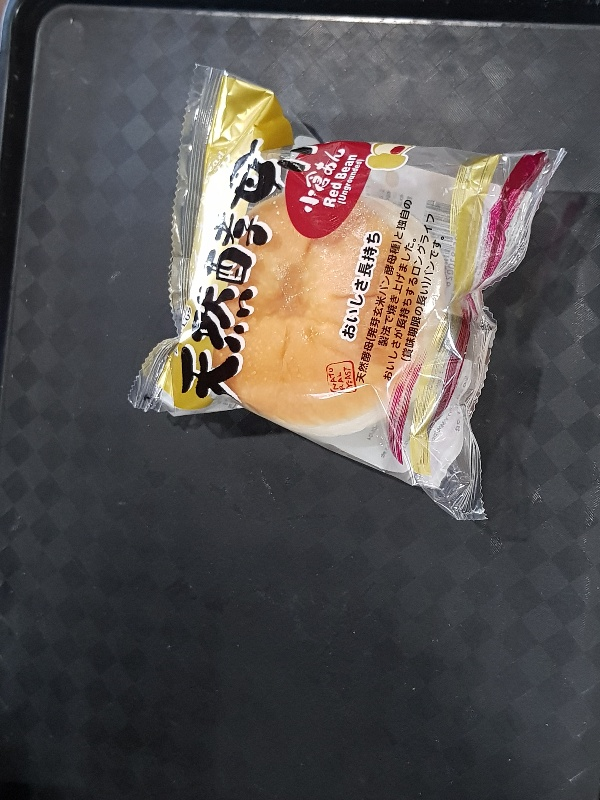Dayplus Red Bean: (124, 60, 567, 524)
